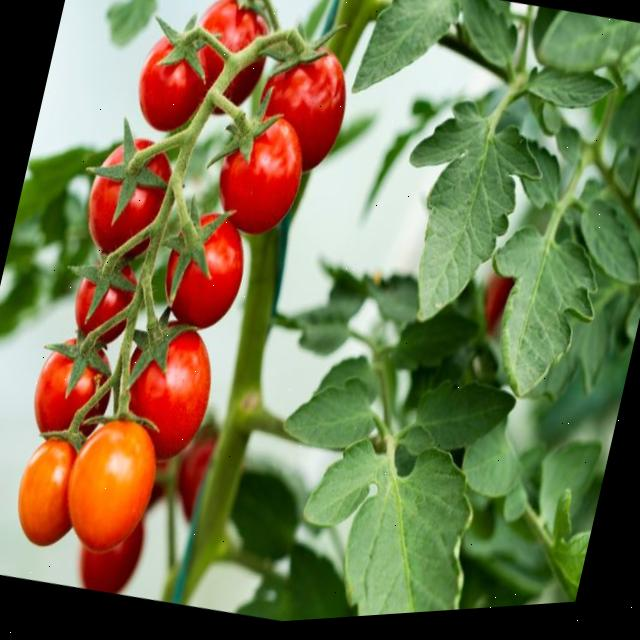fine: (57, 401, 172, 563), (1, 427, 93, 560)
overripe: (107, 303, 228, 475), (202, 104, 318, 251), (77, 119, 184, 274), (250, 35, 358, 182), (152, 203, 262, 340), (12, 328, 118, 445), (179, 0, 281, 112), (128, 19, 224, 138), (58, 241, 150, 353)
